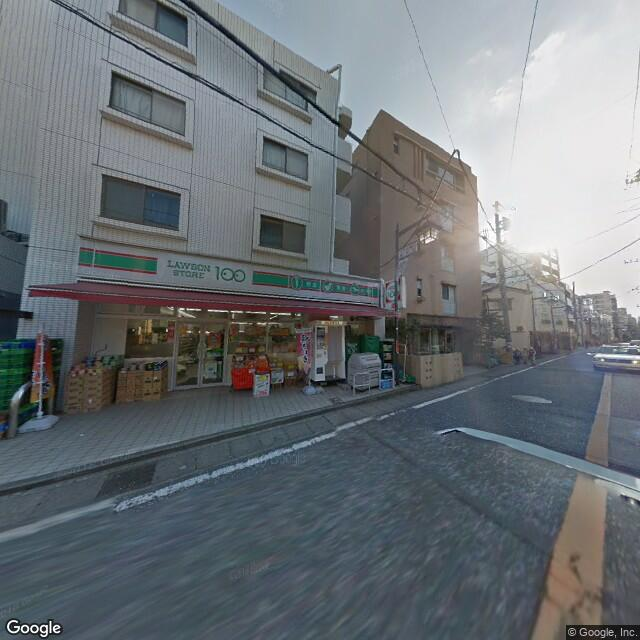lawson: (78, 236, 384, 307), (382, 279, 401, 305)
